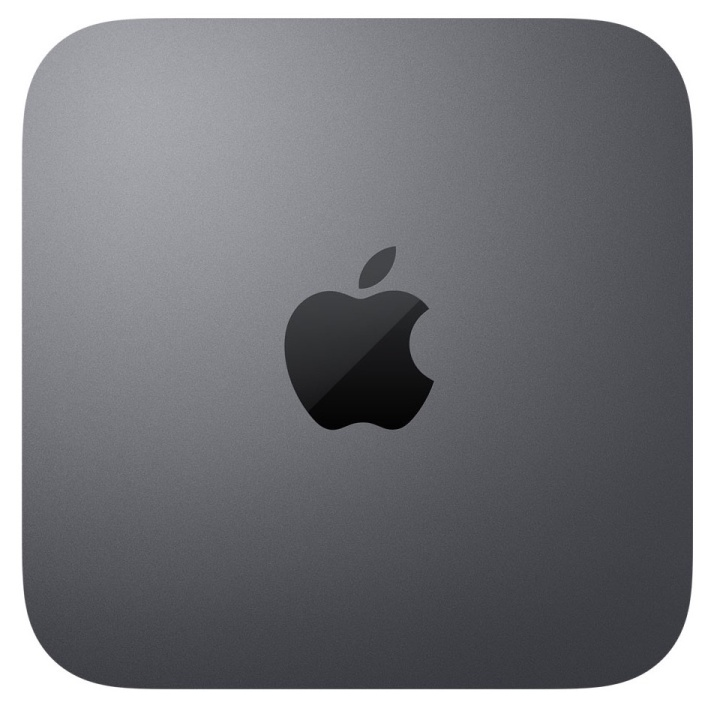apple: (260, 226, 509, 452)
